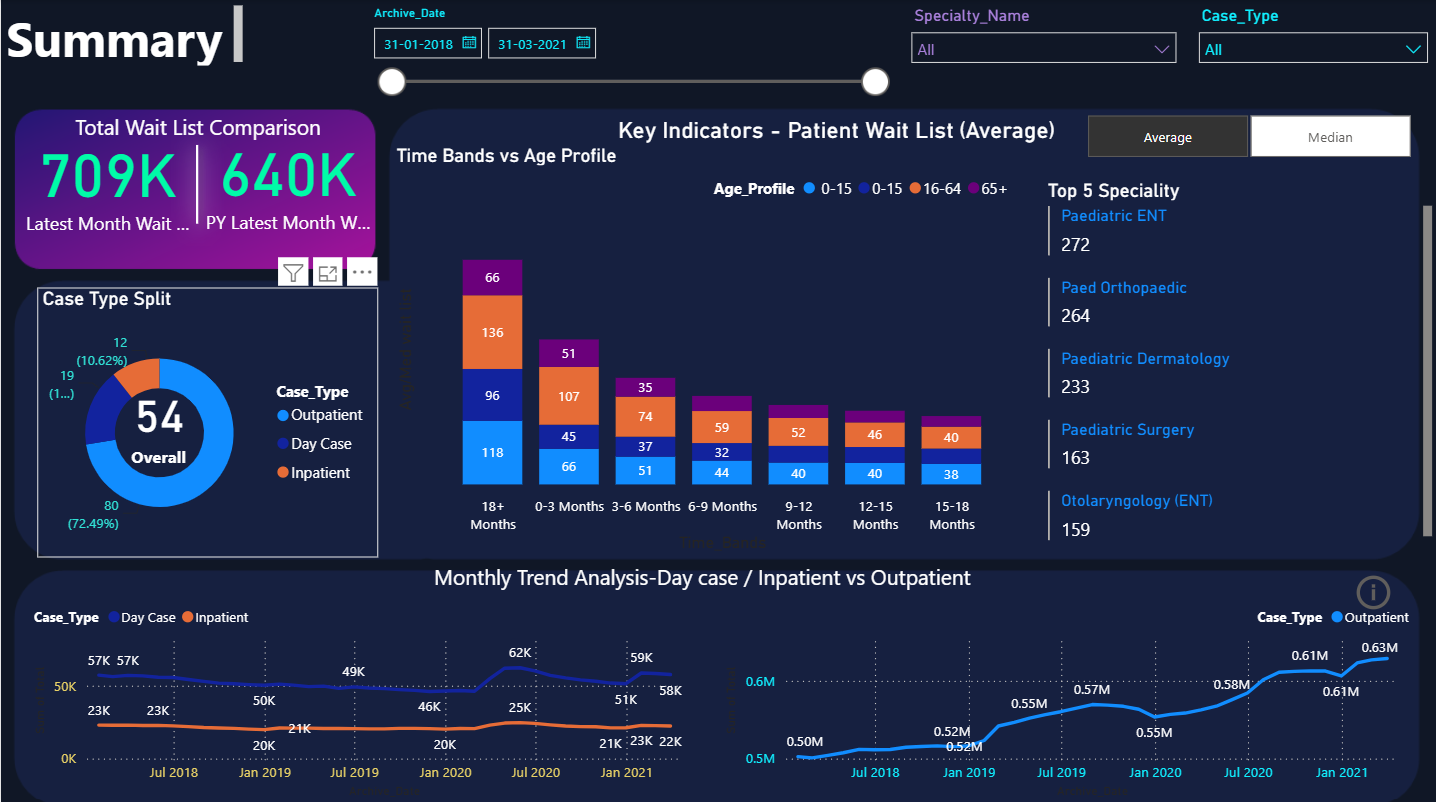

This screenshot's page, from the dashboard's own definition file:
{"tool":"powerbi","page":{"name":"Summary","canvas":[1280,720],"ordinal":0},"visuals":[{"type":"card","fields":{"Values":["All Data.Latest Month Wait List"]},"box":[15.9,95.7,159.4,129],"z":0},{"type":"card","fields":{"Values":["All Data.PY Latest Month Wait List"]},"box":[176,96,160,128],"z":1000},{"type":"slicer","fields":{"Values":["Calculation Table.Calc Method"]},"box":[942,95.7,337.7,50.7],"z":2000},{"type":"donutChart","title":"Case Type Split","fields":{"Category":["All Data.Case_Type"],"Y":["All Data.Avg/Med wait list"]},"box":[32,256,304,240],"z":3000},{"type":"columnChart","title":"Time Bands vs Age Profile","fields":{"Y":["All Data.Avg/Med wait list"],"Category":["All Data.Time_Bands"],"Series":["All Data.Age_Profile"]},"box":[347.8,127.5,559.4,368.1],"z":4000},{"type":"multiRowCard","title":"Top 5 Speciality","fields":{"Values":["All Data.Avg/Med wait list","All Data.Specilality New"]},"box":[927.5,159.4,352.2,336.2],"z":5000},{"type":"card","fields":{"Values":["All Data.NoDataLeft"]},"box":[102,552.8,446.5,141.7],"z":6000},{"type":"lineChart","fields":{"Category":["All Data.Archive_Date"],"Y":["Sum(All Data.Total)"],"Series":["All Data.Case_Type"]},"box":[24.1,530.1,600.9,185.7],"z":7000},{"type":"card","fields":{"Values":["All Data.NoDataRight"]},"box":[735.6,552.8,446.5,141.7],"z":8000},{"type":"lineChart","fields":{"Category":["All Data.Archive_Date"],"Y":["Sum(All Data.Total)"],"Series":["All Data.Case_Type"]},"box":[640.6,530.1,623.6,185.7],"z":9000},{"type":"slicer","fields":{"Values":["All Data.Archive_Date"]},"box":[320,0,480,96],"z":10000},{"type":"slicer","fields":{"Values":["All Data.Specialty_Name"]},"box":[800,0,256,96],"z":11000},{"type":"slicer","fields":{"Values":["All Data.Case_Type"]},"box":[1056,0,224,96],"z":12000},{"type":"textbox","title":"Summary","box":[0,0,220.3,63.8],"z":13000},{"type":"card","fields":{"Values":["All Data.Avg/Med wait list"]},"box":[102,334.5,76.5,85],"z":14000},{"type":"shape","box":[139.1,108.7,71,110.1],"z":15000},{"type":"textbox","box":[381.3,496.1,489,38.3],"z":16000},{"type":"textbox","box":[60.9,95.7,244.9,50.7],"z":17000},{"type":"card","fields":{"Values":["All Data.Dynamic Title"]},"box":[529,89.9,430.4,50.7],"z":18000},{"type":"actionButton","box":[1202.8,507.7,61.5,40],"z":19000}]}

Visuals, with their boxes in screenshot pixels (x1, y1, x2, y2), scaled from the page's 1280x720 canvas onto the 1436x802 screenshot:
card - All Data.Latest Month Wait List: (left=18, top=107, right=197, bottom=250)
card - All Data.PY Latest Month Wait List: (left=197, top=107, right=377, bottom=250)
slicer - Calculation Table.Calc Method: (left=1057, top=107, right=1435, bottom=163)
"Case Type Split" donutChart: (left=36, top=285, right=377, bottom=552)
"Time Bands vs Age Profile" columnChart: (left=390, top=142, right=1018, bottom=552)
"Top 5 Speciality" multiRowCard: (left=1041, top=178, right=1435, bottom=552)
card - All Data.NoDataLeft: (left=114, top=616, right=615, bottom=774)
lineChart - All Data.Archive_Date x Sum(All Data.Total): (left=27, top=590, right=701, bottom=797)
card - All Data.NoDataRight: (left=825, top=616, right=1326, bottom=774)
lineChart - All Data.Archive_Date x Sum(All Data.Total): (left=719, top=590, right=1418, bottom=797)
slicer - All Data.Archive_Date: (left=359, top=0, right=898, bottom=107)
slicer - All Data.Specialty_Name: (left=898, top=0, right=1185, bottom=107)
slicer - All Data.Case_Type: (left=1185, top=0, right=1435, bottom=107)
"Summary" textbox: (left=0, top=0, right=247, bottom=71)
card - All Data.Avg/Med wait list: (left=114, top=373, right=200, bottom=467)
shape: (left=156, top=121, right=236, bottom=244)
textbox: (left=428, top=553, right=976, bottom=595)
textbox: (left=68, top=107, right=343, bottom=163)
card - All Data.Dynamic Title: (left=593, top=100, right=1076, bottom=157)
actionButton: (left=1349, top=566, right=1418, bottom=610)
